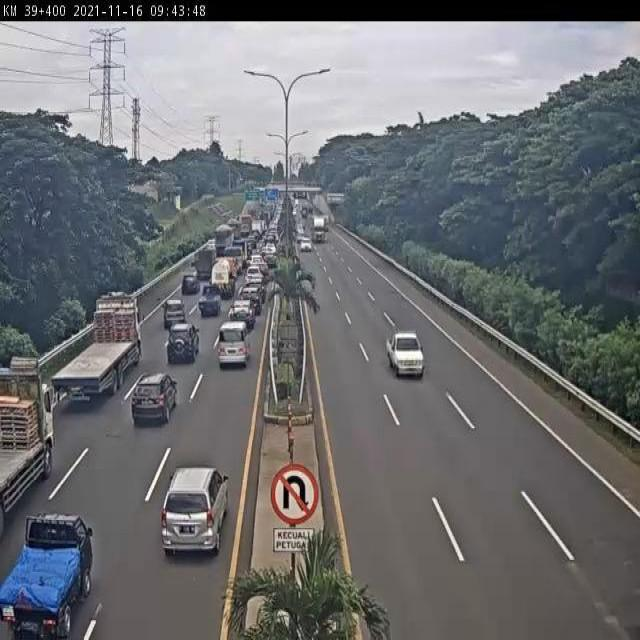car: (1, 515, 94, 637), (161, 465, 229, 555), (130, 374, 178, 430), (218, 320, 253, 371), (385, 330, 425, 374), (167, 324, 199, 367), (199, 283, 223, 316), (230, 300, 254, 333), (163, 299, 187, 325), (240, 287, 262, 313), (169, 280, 191, 305), (248, 277, 268, 299), (246, 265, 264, 284), (177, 260, 193, 276), (248, 254, 264, 266), (300, 238, 311, 250)
small truck: (187, 248, 214, 287), (225, 246, 244, 274)
truck-l-: (50, 296, 142, 397), (0, 375, 54, 516), (309, 212, 325, 241)
truck-m-: (211, 260, 234, 300), (210, 226, 232, 262)
